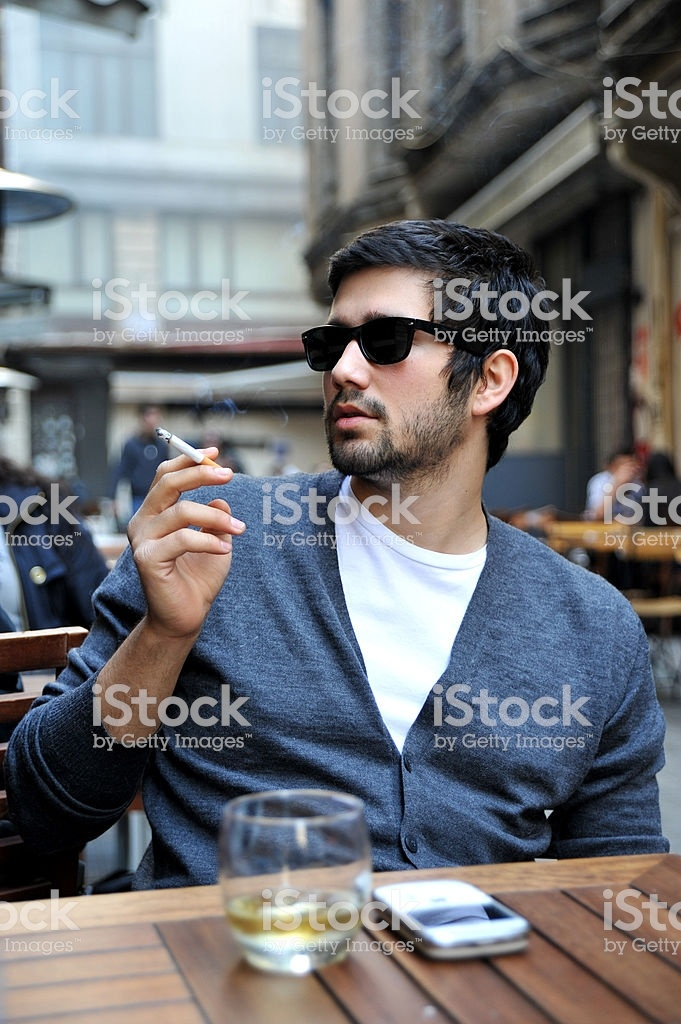sigaretta: (169, 430, 218, 480)
